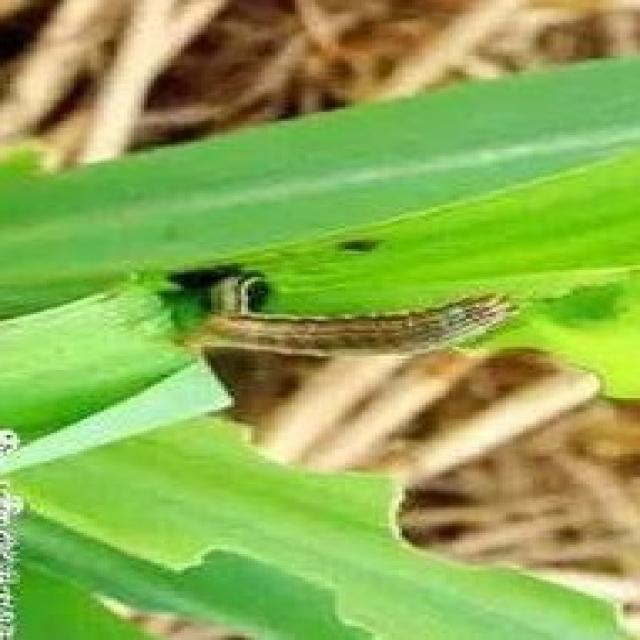army worm: (182, 290, 524, 374)
